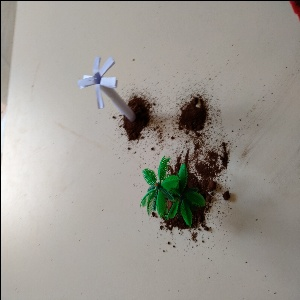plant: (140, 157, 218, 235)
weed: (75, 58, 144, 125)
